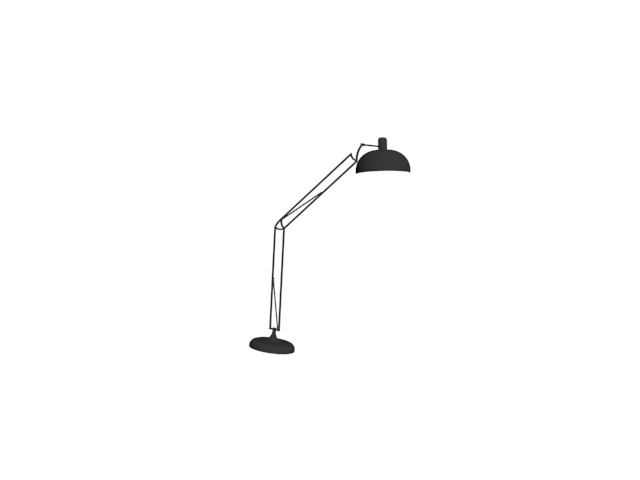desk_lamp: (249, 137, 416, 360)
